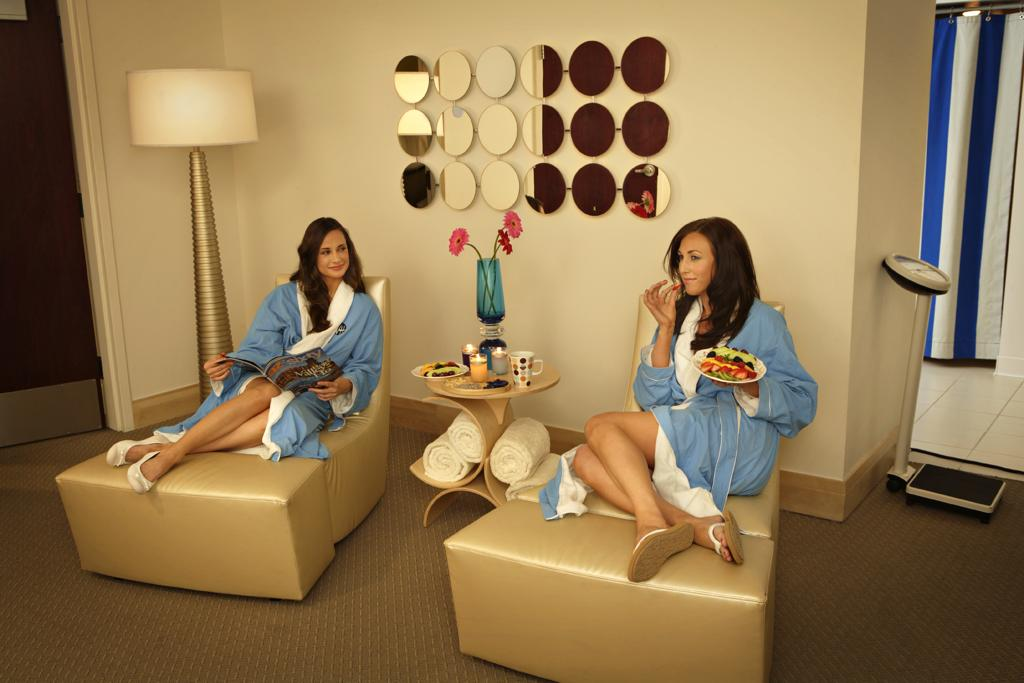face: (677, 231, 716, 296), (316, 229, 350, 277)
